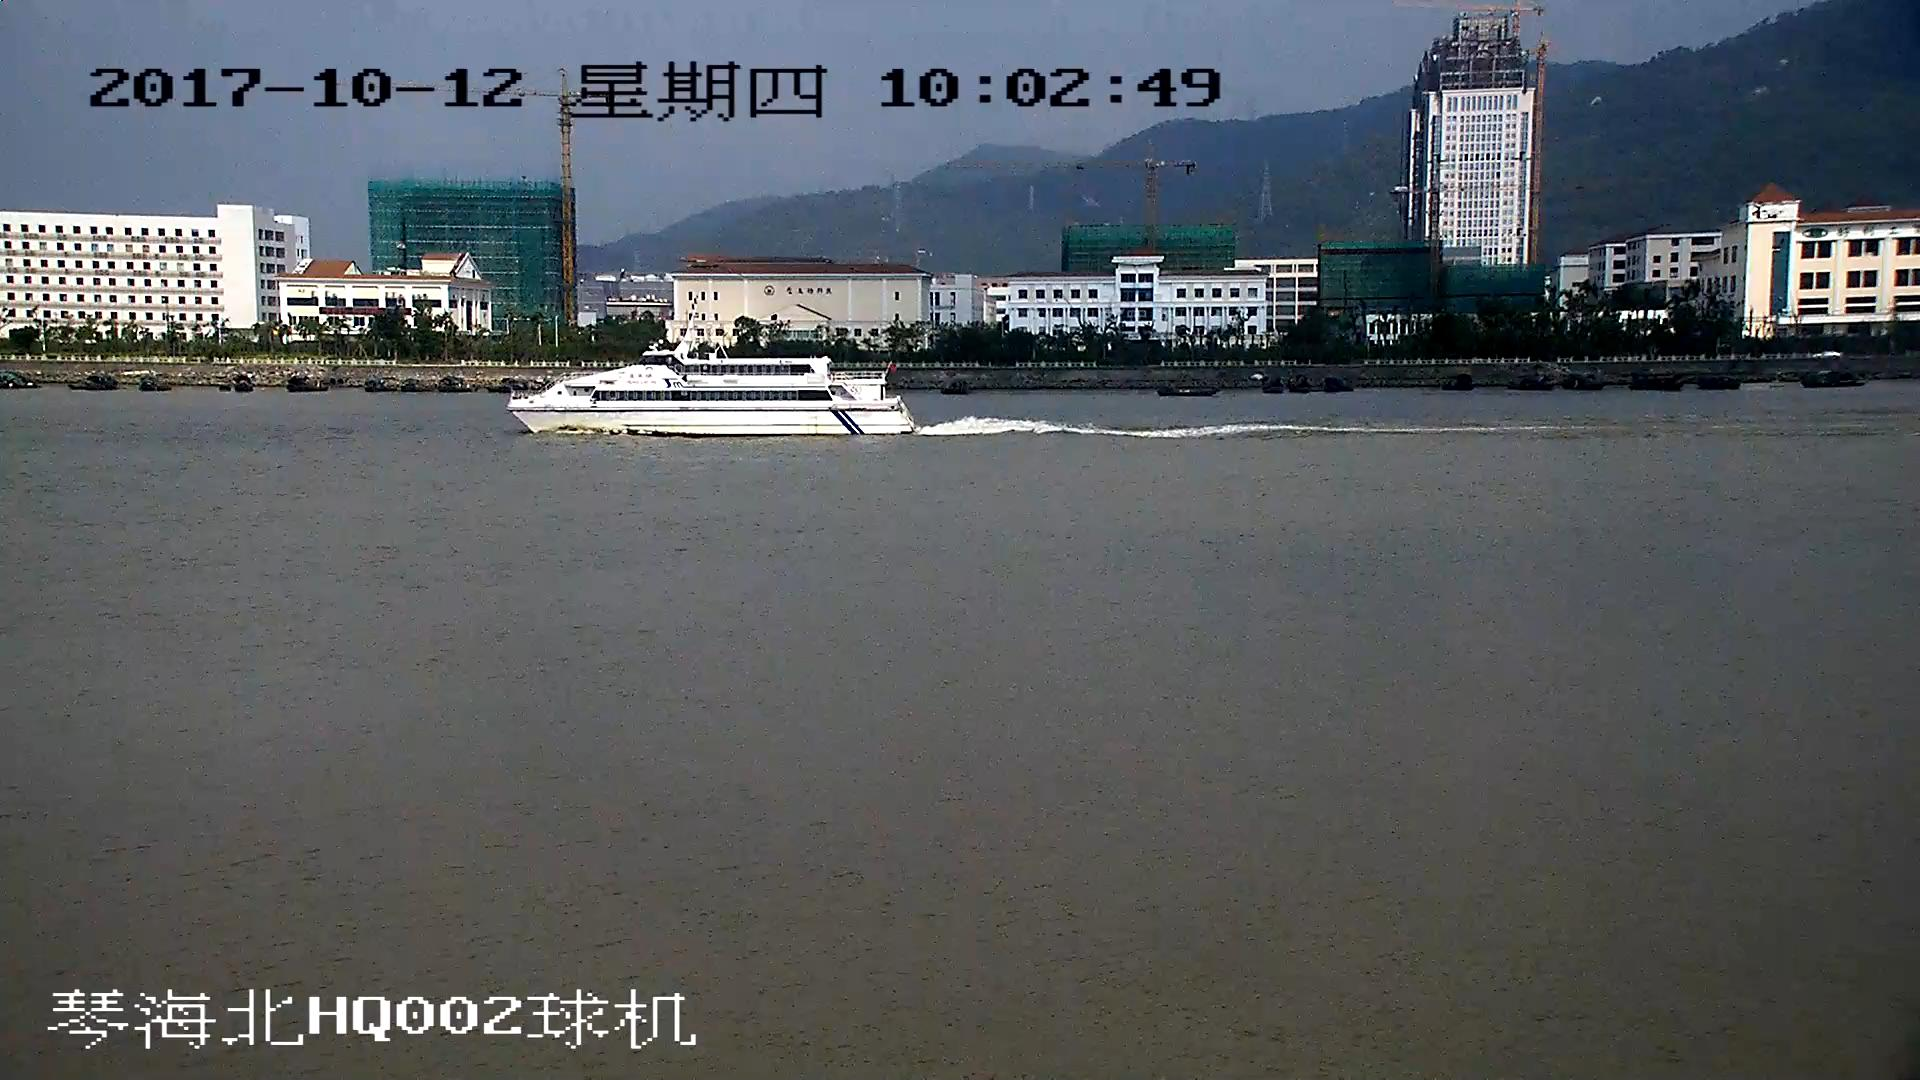passenger ship: (514, 304, 916, 441)
